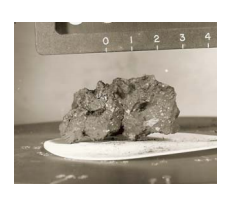Breccia: (30, 69, 191, 141)
